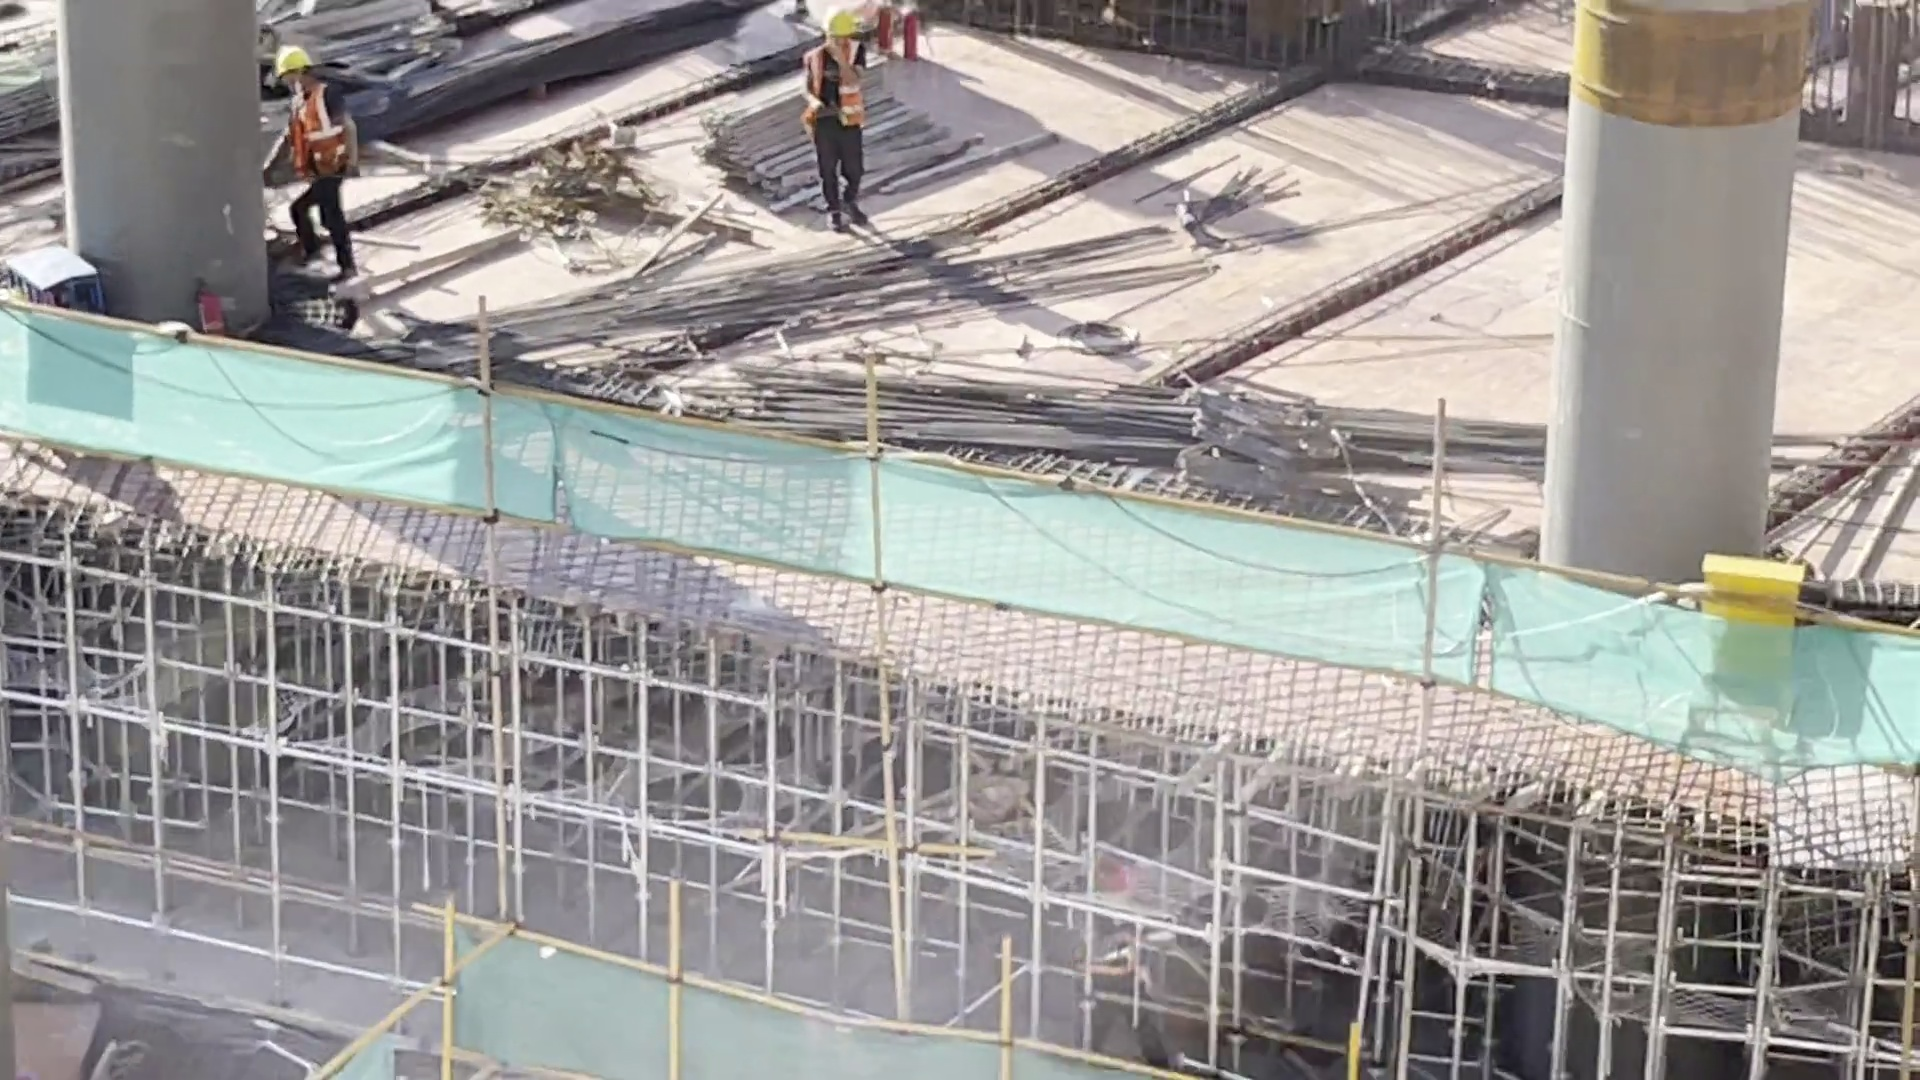ebox: (1721, 547, 1818, 699)
helmet: (1096, 861, 1139, 914), (829, 14, 868, 52), (293, 37, 306, 79)
person: (1073, 853, 1183, 1058), (788, 6, 878, 223), (283, 46, 363, 288)
rebar: (316, 195, 1161, 418), (729, 357, 1378, 482), (378, 1, 724, 68)
vest: (809, 34, 873, 122), (1086, 919, 1151, 1006), (298, 84, 353, 182)
